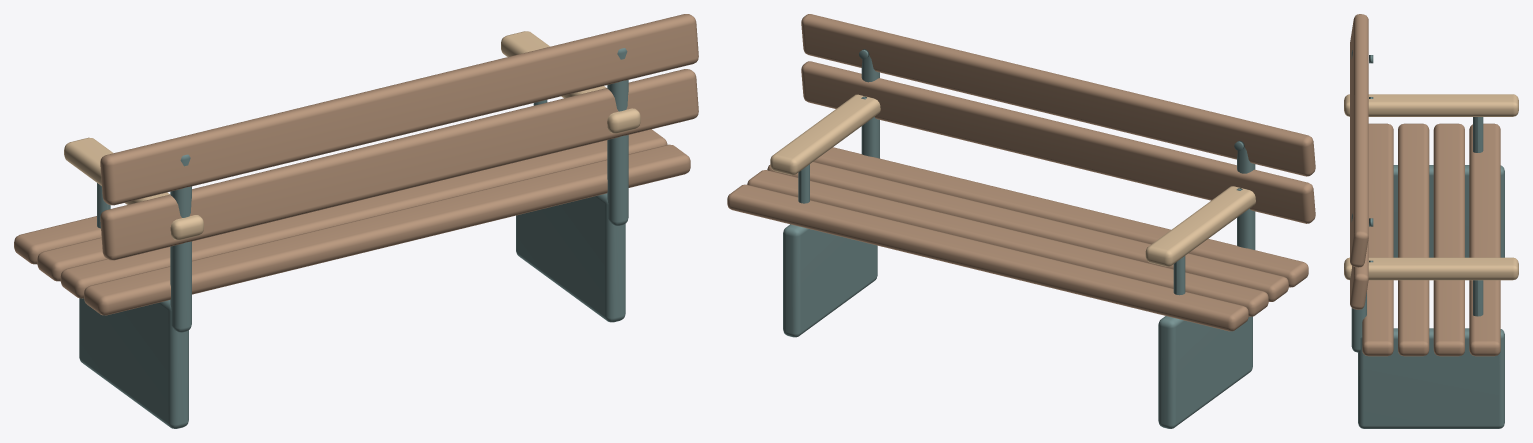
The model's file is CoveBench.fbx.
3 views of the same model, side by side, from view 1: azimuth 30°, elevation 25°; view 2: azimuth 150°, elevation 25°; view 3: azimuth 270°, elevation 25° (orthographic). The views are drawn at different scales.
Visible parts, largest first — view 1: CoveBench; view 2: CoveBench; view 3: CoveBench.
Part boxes in pixels (x1,y1,x2,y2): CoveBench: [14, 14, 698, 428]; CoveBench: [727, 14, 1315, 428]; CoveBench: [1344, 14, 1518, 428].
Size of the model in its own units: 225 by 106 by 75.
